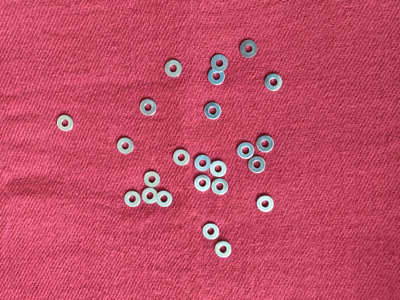circle: (143, 169, 163, 190), (192, 153, 212, 174), (192, 173, 212, 194), (138, 97, 158, 118), (163, 58, 183, 79), (203, 101, 223, 122), (239, 39, 259, 60), (236, 141, 256, 162), (248, 154, 268, 175), (123, 189, 143, 209), (139, 185, 159, 205), (154, 189, 174, 209), (209, 53, 229, 73), (172, 147, 191, 168), (209, 158, 228, 179), (211, 177, 230, 198), (201, 221, 220, 242), (214, 239, 233, 260), (207, 66, 226, 87), (264, 72, 283, 93), (256, 194, 275, 215), (117, 136, 136, 156), (256, 134, 275, 154), (56, 114, 75, 132)
